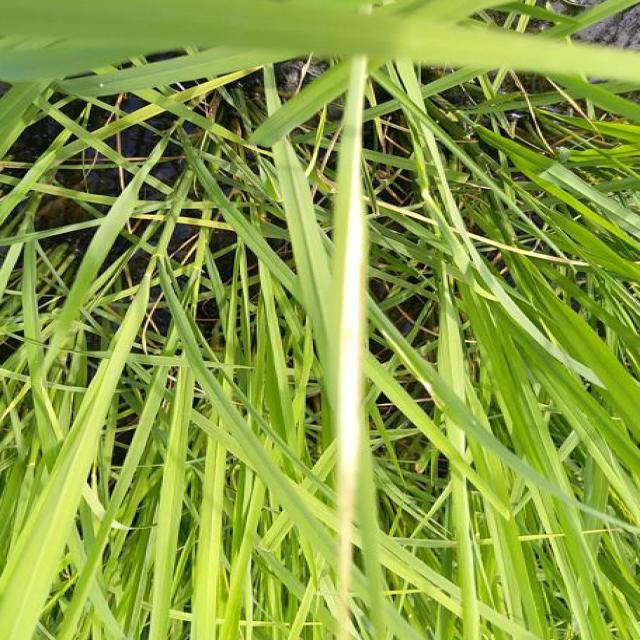Leaf Blight: (335, 54, 366, 640)
